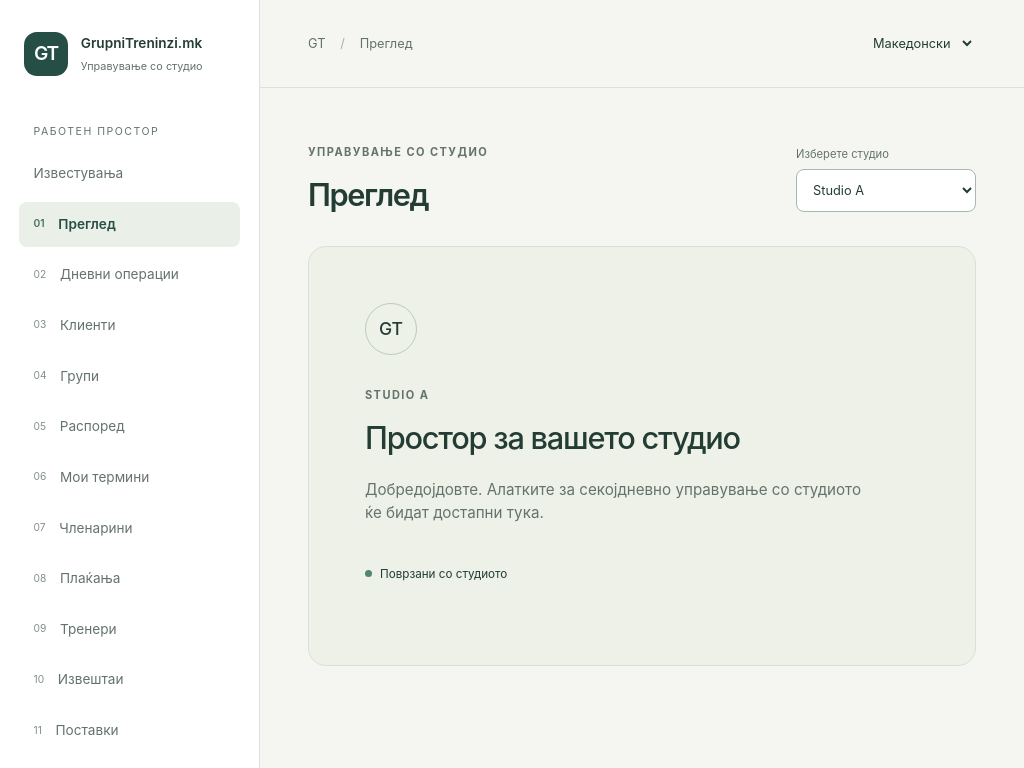
Test case: does not render the destination when organization switching is denied
Expected: the heading "Простор за вашето студио" is shown, [365, 419, 740, 456]
Select "Foreign" in the dropdown labelled "Изберете студио" at (886,190), box [796, 169, 976, 212]
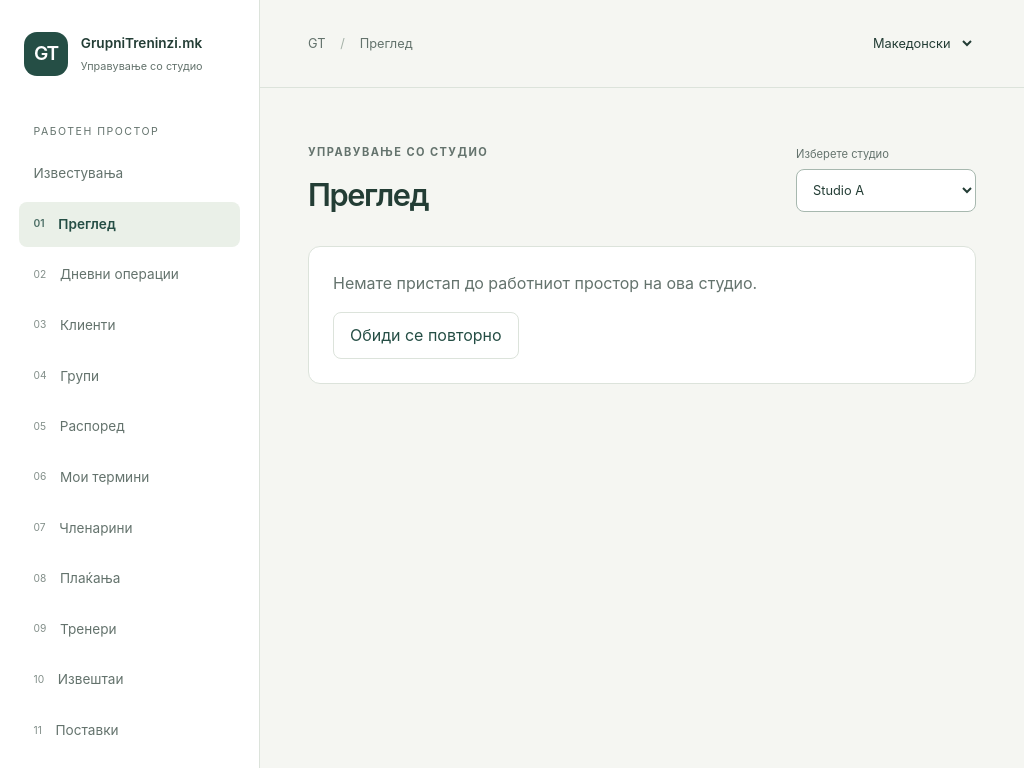
Result: the message shows "Немате пристап" at [333, 273, 757, 293]
Result: the heading "Простор за вашето студио" is gone
